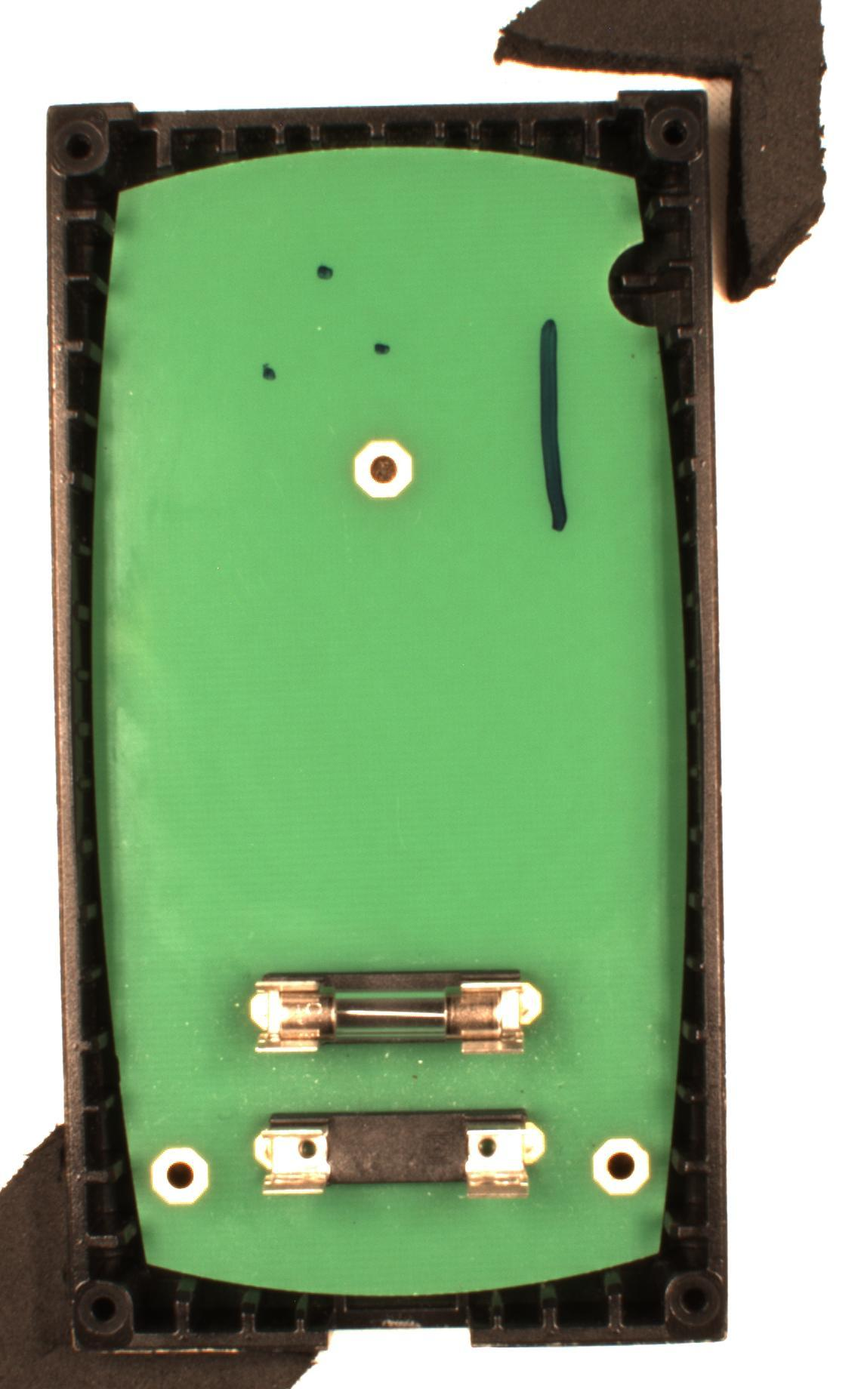Linijsko Ostecene: (535, 315, 571, 533)
Nepostojanje osiguraca: (250, 1107, 547, 1202)
Tockasto Ostecenje: (258, 360, 279, 385), (314, 262, 337, 284), (371, 338, 396, 358)
